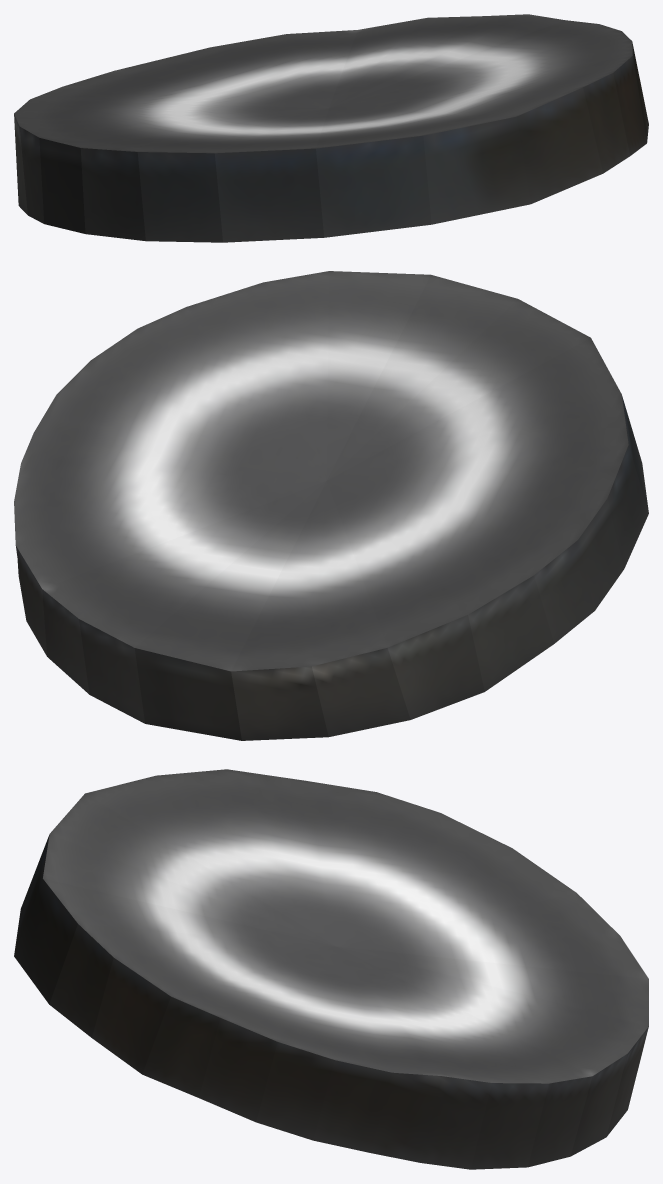
Rendered from pfd_mr_controller_left_home.obj.
3 views of the same model, one above another, from view 1: azimuth 30°, elevation 25°; view 2: azimuth 150°, elevation 25°; view 3: azimuth 270°, elevation 25° (orthographic).
Parts seen in each view (by area): view 1: pfd_mr_controller_left_home; view 2: pfd_mr_controller_left_home; view 3: pfd_mr_controller_left_home.
Part boxes in pixels (x1,y1,x2,y2): pfd_mr_controller_left_home: (14, 14, 648, 242); pfd_mr_controller_left_home: (14, 271, 648, 740); pfd_mr_controller_left_home: (14, 769, 648, 1169).
Bounding box in the file's own units: 0.0092 × 0.00372 × 0.0091.
1 material, 1 textured.
